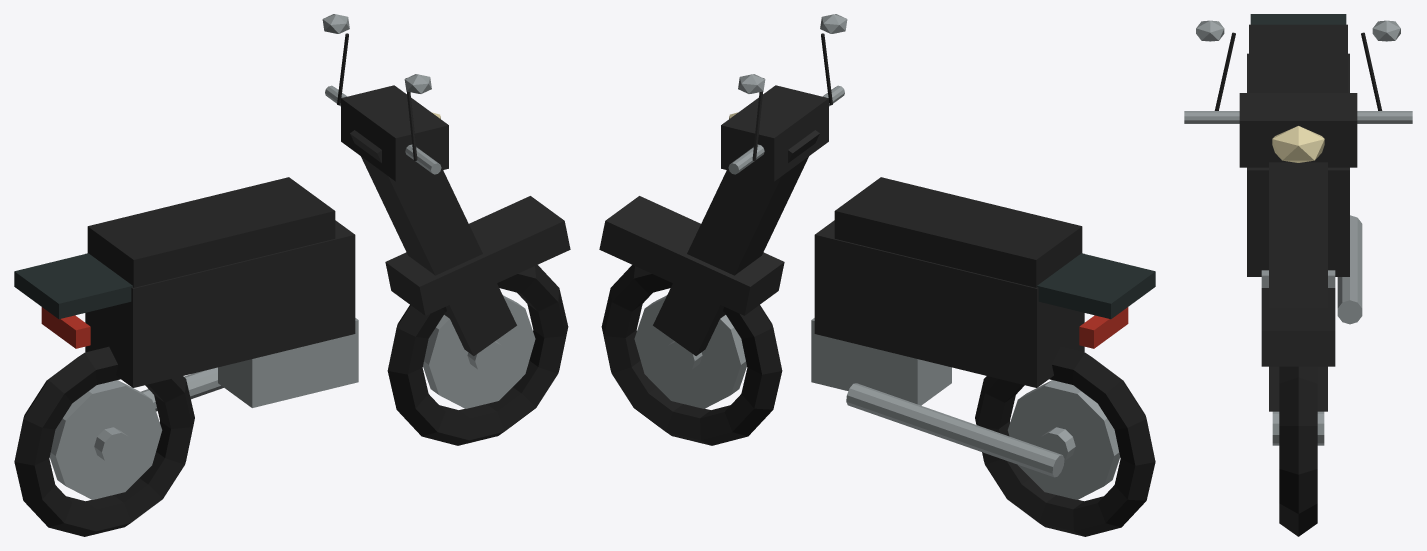
File: xe_may_den.glb
The picture shows the model from 3 angles, left to right: view 1: azimuth 30°, elevation 25°; view 2: azimuth 150°, elevation 25°; view 3: azimuth 270°, elevation 25°; orthographic projection. The views are drawn at different scales.
Visible parts, largest first — view 1: xe_may_den; view 2: xe_may_den; view 3: xe_may_den.
Part boxes in pixels (x1=…): xe_may_den: x1=14, y1=14, x2=570, y2=536; xe_may_den: x1=599, y1=14, x2=1155, y2=536; xe_may_den: x1=1184, y1=14, x2=1412, y2=536.
Size of the model in its own units: 1.87 by 1.36 by 0.62.
